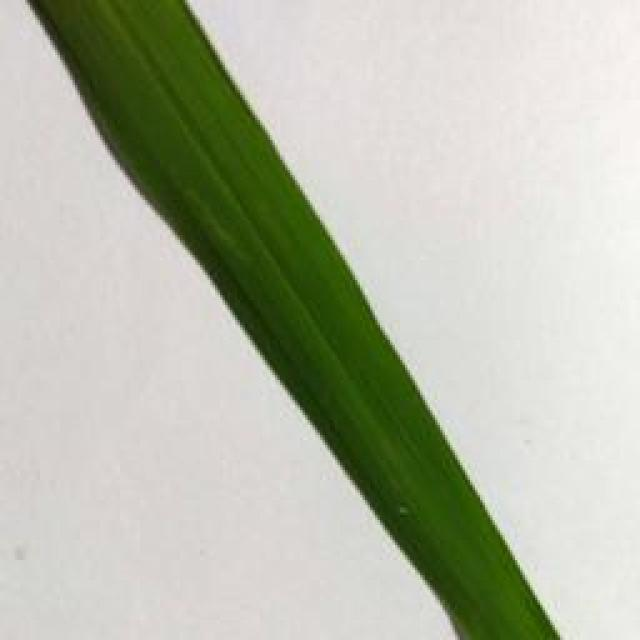Healthy: (29, 0, 562, 640)
